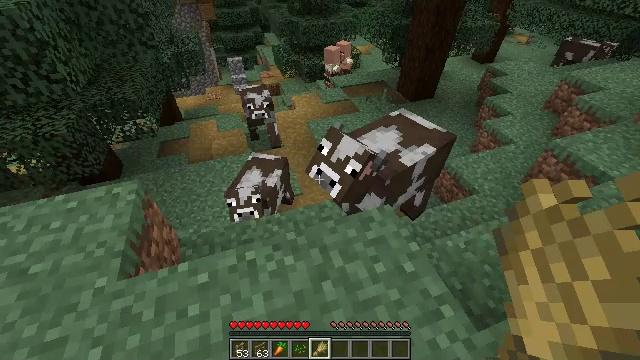cow: (307, 109, 458, 217), (224, 153, 294, 221), (239, 84, 281, 147), (554, 35, 620, 68)
